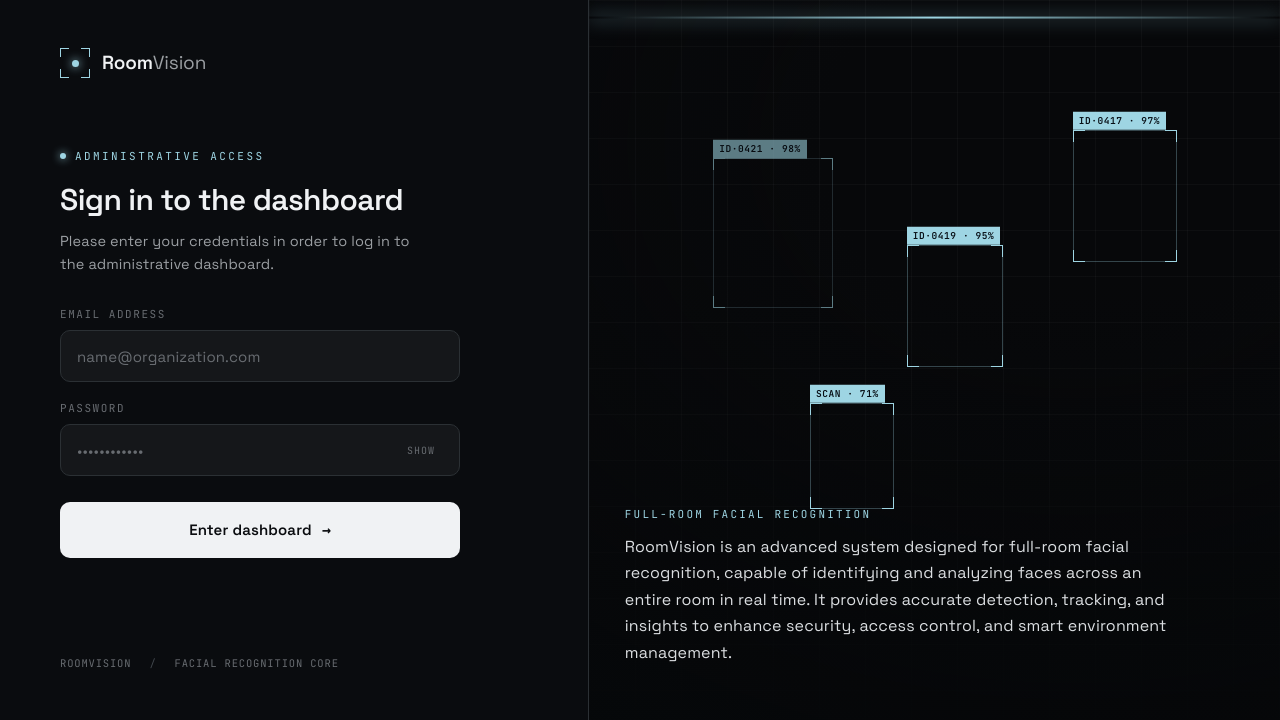
Login Page › shows error when only email is filled
In the field with id "email": (260, 356) [61,331,459,381], type "admin@roomvision.com"
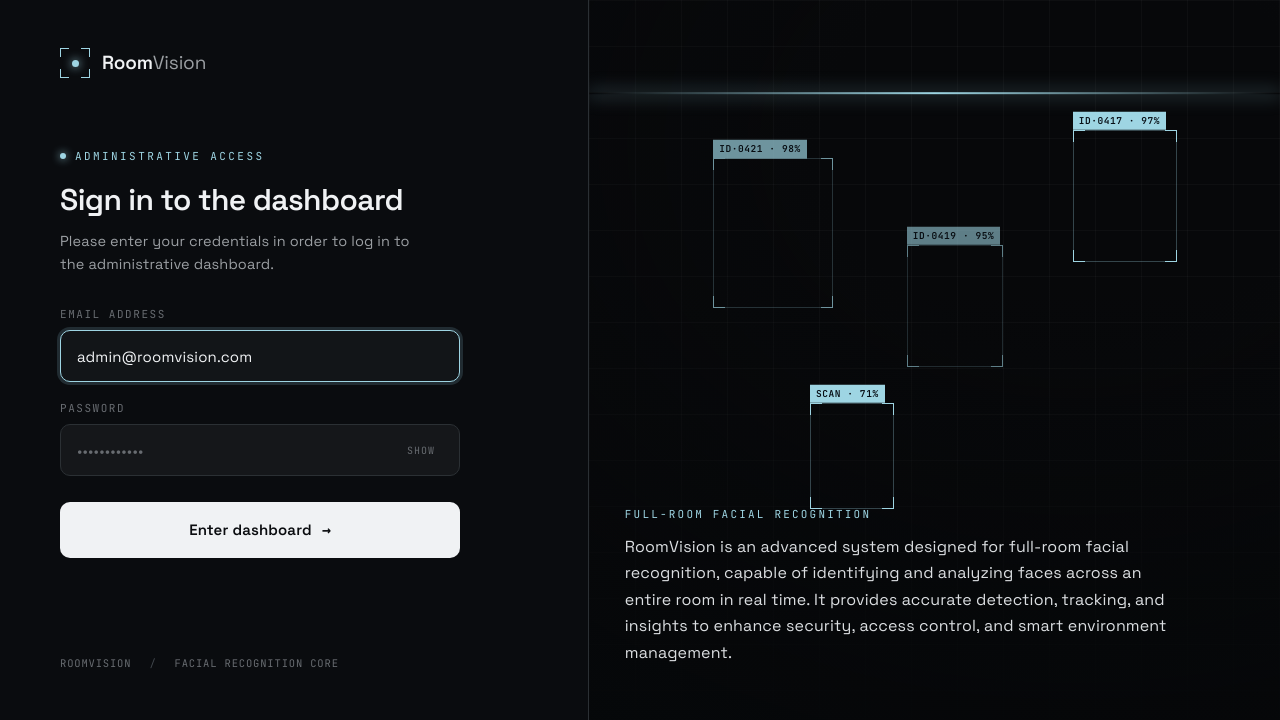
Click the submit button: (260, 530) [60,502,460,558]
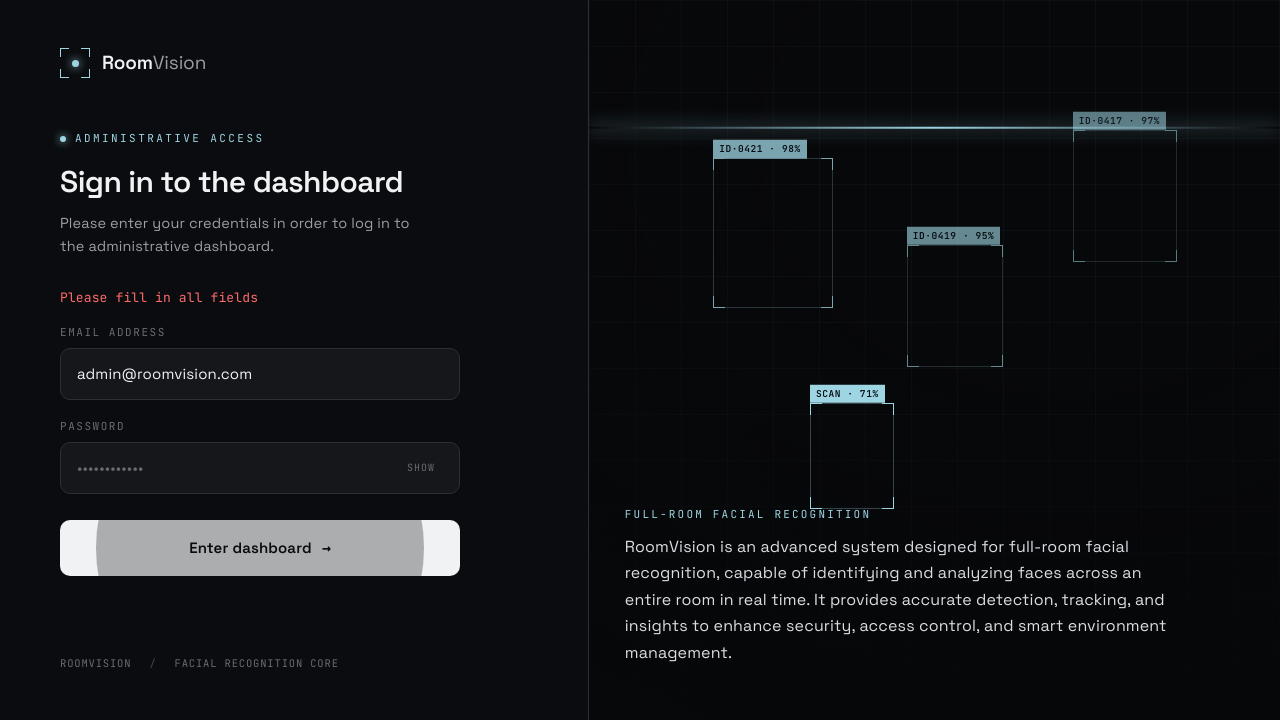
Check: the text "Please fill in all fields" is shown, box [60,289,258,306]
